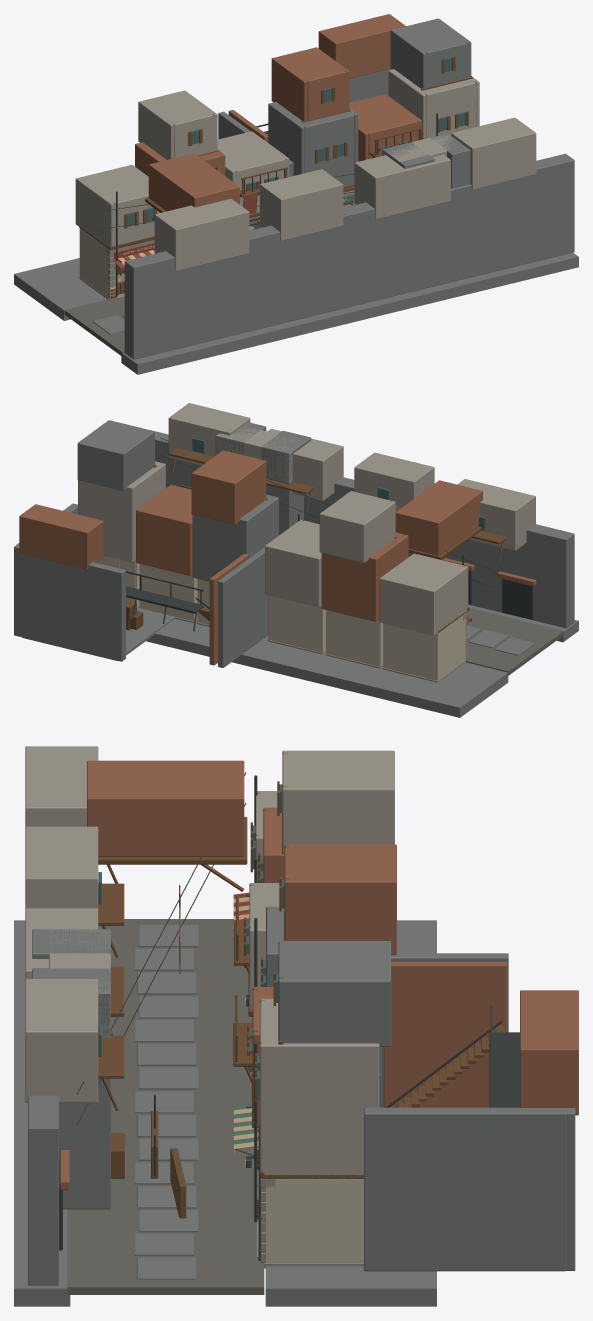
The model's file is lower_layer_storefront_street_v1_visuals.glb.
3 views of the same model, one above another, from view 1: azimuth 30°, elevation 25°; view 2: azimuth 150°, elevation 25°; view 3: azimuth 270°, elevation 25° (orthographic). The views are drawn at different scales.
Visible parts, largest first — view 1: VIS_OppositeStreet, VIS_UpperBuildingsAndProps, VIS_SecretRoute, VIS_Shop01_Hearth, VIS_Checkpoint, VIS_StreetSurface; view 2: VIS_UpperBuildingsAndProps, VIS_OppositeStreet, VIS_SecretRoute, VIS_Shop01_Hearth, VIS_StreetSurface, VIS_Checkpoint, VIS_Shop03_Repair, VIS_Shop02_Rations, VIS_Shop05_Cloth, VIS_Shop06_Court17, VIS_Shop04_Dispensary; view 3: VIS_UpperBuildingsAndProps, VIS_SecretRoute, VIS_StreetSurface, VIS_OppositeStreet, VIS_Checkpoint, VIS_Shop06_Court17, VIS_Shop05_Cloth.
Part boxes in pixels (x1,y1,x2,y2): VIS_OppositeStreet: (121, 117, 578, 374); VIS_UpperBuildingsAndProps: (14, 18, 479, 320); VIS_SecretRoute: (218, 14, 405, 176); VIS_Shop01_Hearth: (79, 227, 154, 299); VIS_Checkpoint: (382, 130, 470, 188); VIS_StreetSurface: (64, 297, 124, 356); VIS_UpperBuildingsAndProps: (77, 420, 508, 717); VIS_OppositeStreet: (155, 403, 578, 642); VIS_SecretRoute: (14, 503, 268, 667); VIS_Shop01_Hearth: (383, 612, 471, 682); VIS_StreetSurface: (466, 608, 563, 675); VIS_Checkpoint: (215, 422, 311, 535); VIS_Shop03_Repair: (268, 595, 325, 654); VIS_Shop02_Rations: (325, 610, 383, 668); VIS_Shop05_Cloth: (139, 564, 197, 623); VIS_Shop06_Court17: (97, 555, 139, 607); VIS_Shop04_Dispensary: (197, 579, 209, 626); VIS_UpperBuildingsAndProps: (77, 750, 436, 1306); VIS_SecretRoute: (364, 953, 578, 1271); VIS_StreetSurface: (67, 919, 264, 1294); VIS_OppositeStreet: (14, 746, 101, 1306); VIS_Checkpoint: (32, 929, 186, 1218); VIS_Shop06_Court17: (245, 1156, 363, 1268); VIS_Shop05_Cloth: (233, 1103, 259, 1199).
Size of the model in its own units: 31 by 11.8 by 20.1.
